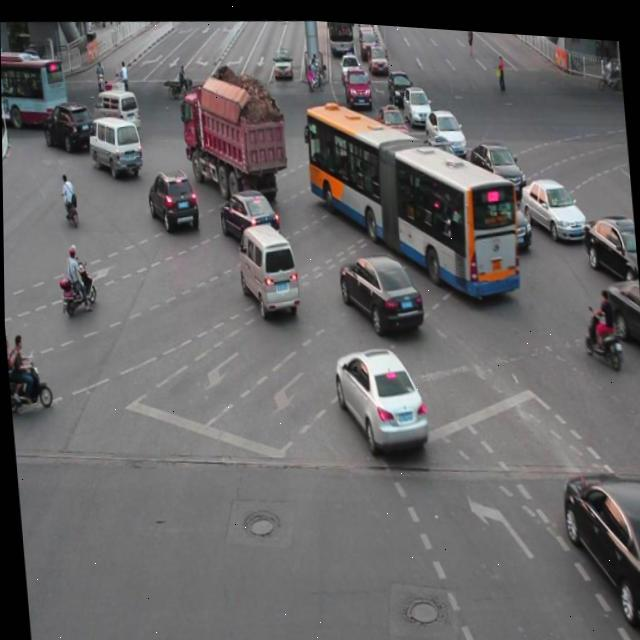bus: (178, 82, 288, 204)
car: (558, 456, 640, 626), (330, 335, 427, 452), (337, 242, 423, 331), (517, 164, 584, 236), (216, 180, 280, 248), (579, 203, 638, 274), (465, 128, 525, 192), (146, 165, 199, 231), (40, 97, 97, 155), (480, 184, 530, 249), (602, 266, 640, 349), (418, 128, 468, 189), (423, 101, 466, 155), (375, 98, 409, 146)
truck: (234, 216, 299, 317), (85, 109, 144, 181), (90, 84, 141, 135)
van: (304, 85, 521, 305)
